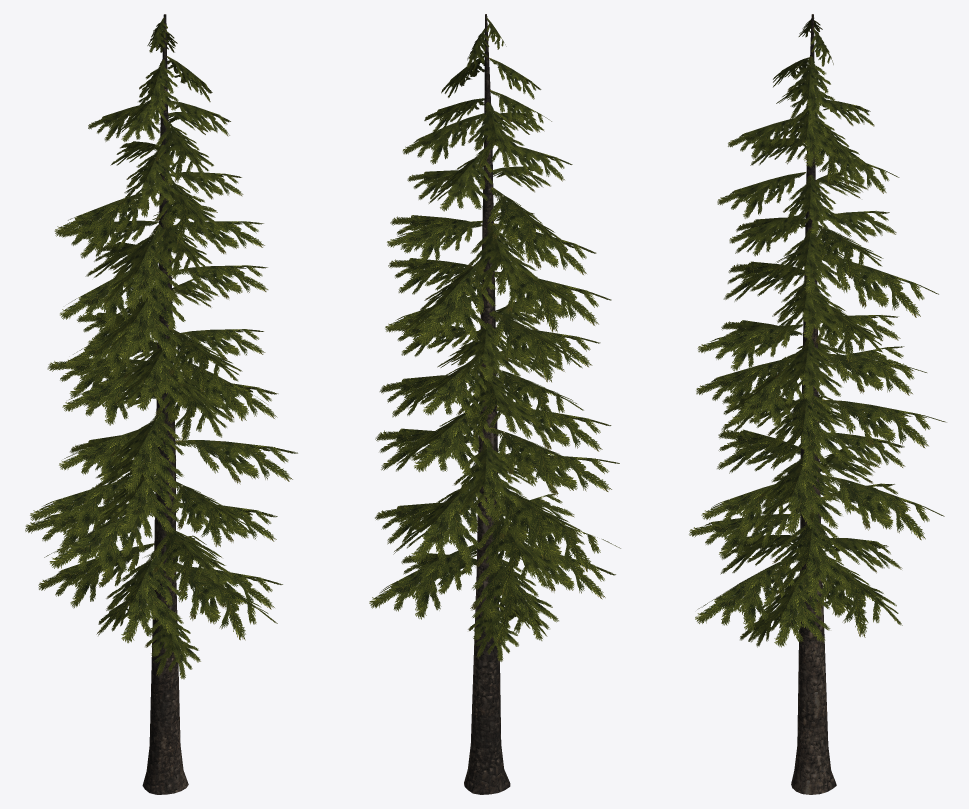
File: pine_tree_n_2.obj
The picture shows the model from 3 angles, left to right: view 1: azimuth 30°, elevation 25°; view 2: azimuth 150°, elevation 25°; view 3: azimuth 270°, elevation 25°; orthographic projection.
Parts seen in each view (by area): view 1: pine_tree_n_2_branches, pine_tree_n_2; view 2: pine_tree_n_2_branches, pine_tree_n_2; view 3: pine_tree_n_2_branches, pine_tree_n_2.
Boxes of the visible parts, x1,y1,x2,y2 form: pine_tree_n_2_branches: [25, 18, 297, 679]; pine_tree_n_2: [142, 14, 188, 794]; pine_tree_n_2_branches: [369, 18, 620, 661]; pine_tree_n_2: [464, 14, 510, 794]; pine_tree_n_2_branches: [689, 18, 946, 647]; pine_tree_n_2: [791, 14, 836, 794].
Size of the model in its own units: 3.66 by 10.11 by 3.36.
